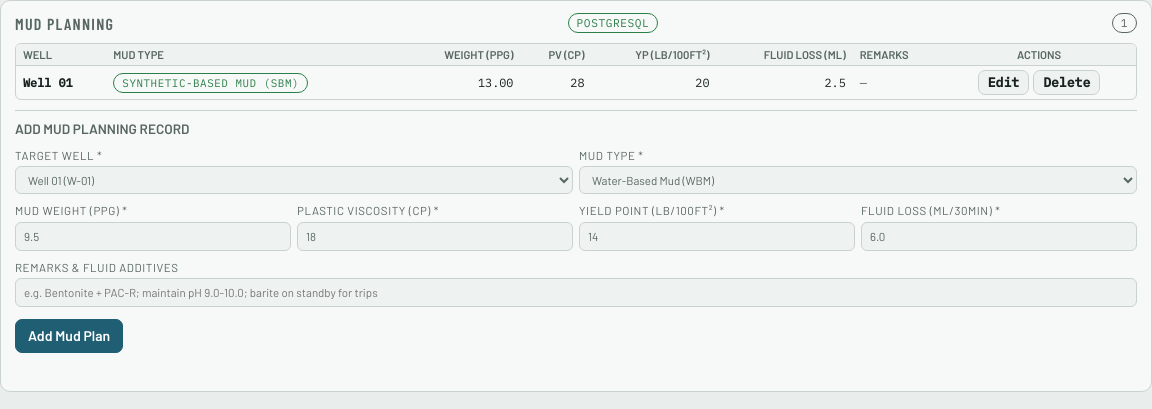
it: <MudPlanningEditor> › requires confirmation before deleting a mud plan
Expected: the text "13.00" is shown, x1=402 y1=66 x2=520 y2=99
Click the button with aria-label "delete mud plan for Well 01" at (1067, 82), box x1=1033 y1=70 x2=1100 y2=95
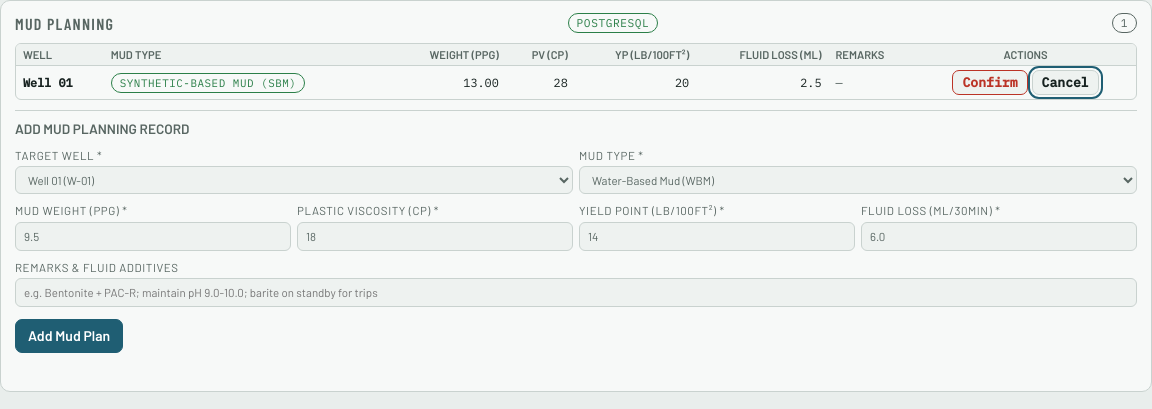
Click the button "Confirm" at (990, 82), box x1=952 y1=70 x2=1028 y2=95
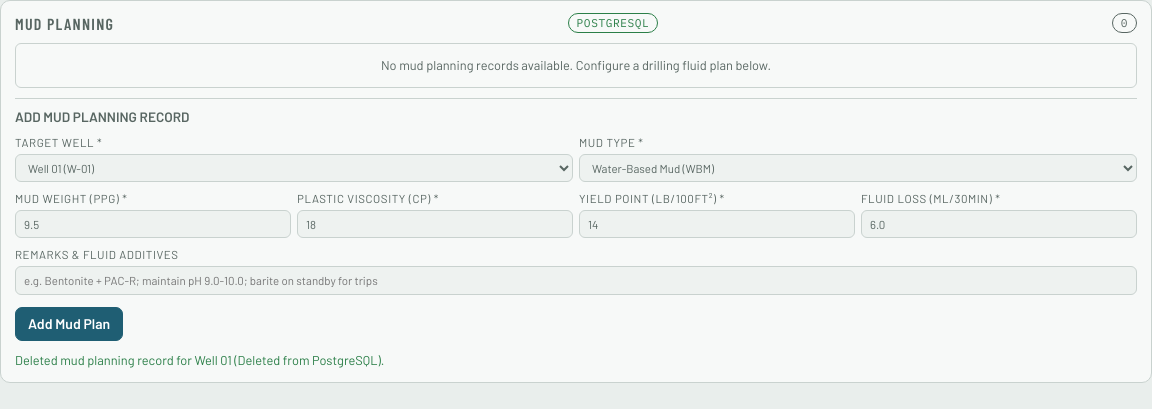
Result: the text "13.00" is gone
